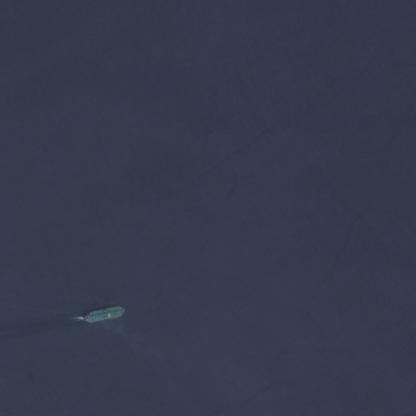ship: (62, 312, 111, 315)
